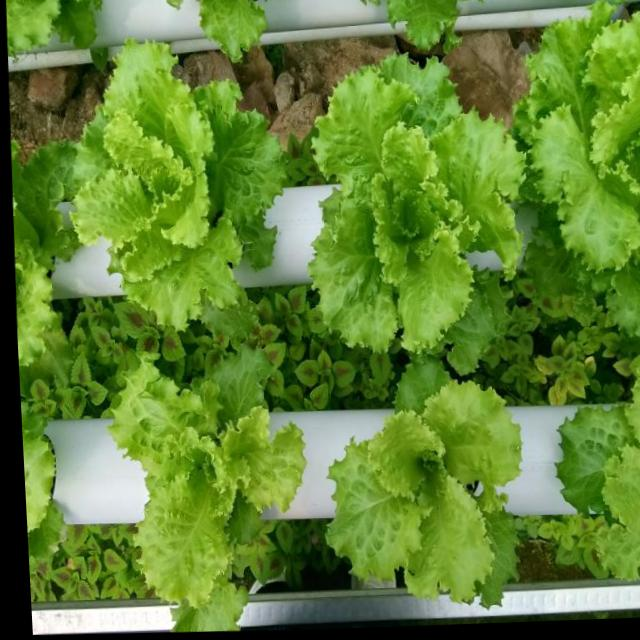Baby: (309, 55, 524, 354), (70, 40, 285, 329), (108, 348, 304, 631), (326, 365, 521, 601)
